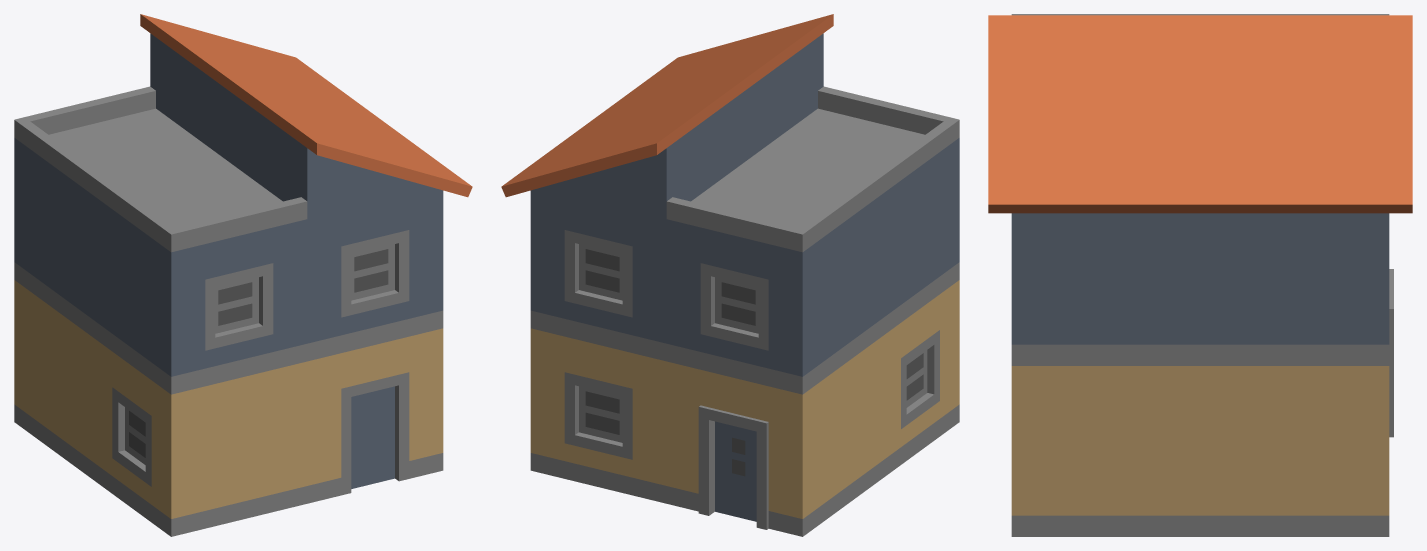
File: SM_Suburb_House_020.fbx
The picture shows the model from 3 angles, left to right: view 1: azimuth 30°, elevation 25°; view 2: azimuth 150°, elevation 25°; view 3: azimuth 270°, elevation 25°; orthographic projection. The views are drawn at different scales.
Parts seen in each view (by area): view 1: SM_Suburb_House_020; view 2: SM_Suburb_House_020; view 3: SM_Suburb_House_020.
Boxes of the visible parts, box(x1,y1,x2,y2) form: SM_Suburb_House_020: box(14, 14, 472, 536); SM_Suburb_House_020: box(501, 14, 959, 536); SM_Suburb_House_020: box(988, 14, 1412, 536).
Size of the model in its own units: 618 by 744 by 648.
